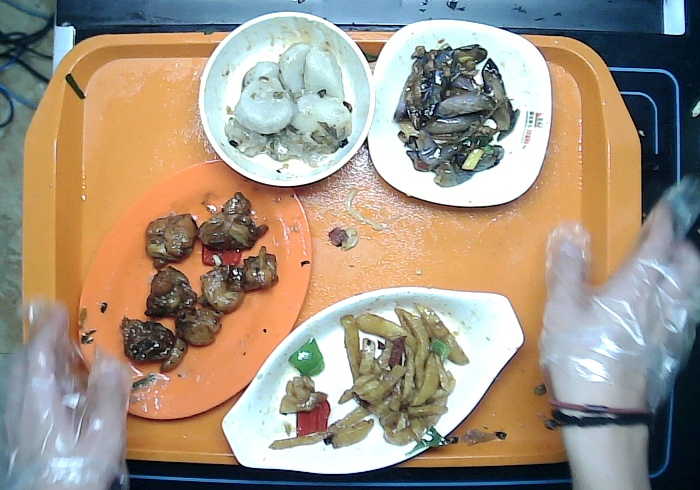NLDX-Bai_Se_Xiao_Fang_Die: (366, 17, 554, 208)
NLDX-Fan_Wan: (197, 9, 377, 188)
NLDX-Ju_Se_Pan: (76, 155, 314, 422)
NLDX-Yu_Pan: (219, 284, 526, 475)
